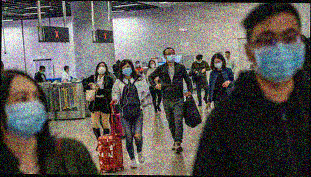with_mask: (252, 27, 307, 84), (4, 88, 46, 138), (122, 64, 133, 78), (165, 51, 175, 63), (97, 64, 107, 75), (214, 60, 224, 70), (150, 62, 156, 69), (40, 69, 46, 75), (196, 59, 203, 64), (66, 67, 70, 74), (136, 63, 141, 68)
without_mask: (224, 53, 230, 60)
